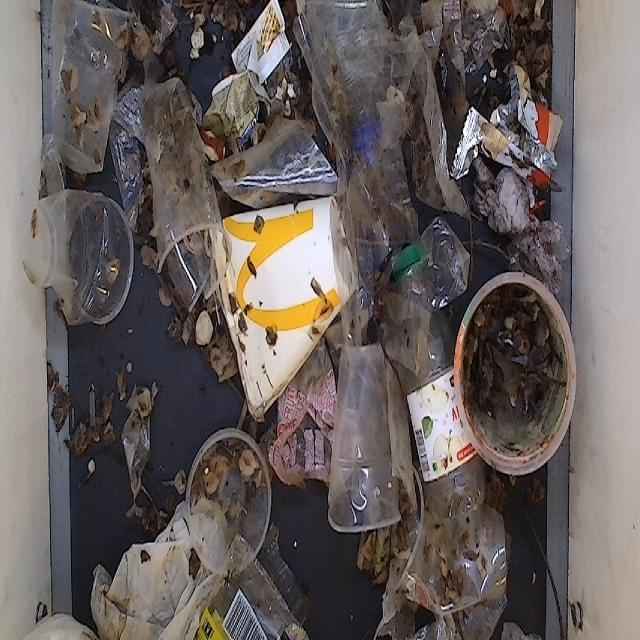food_packaging: (204, 210, 360, 404)
food_wrapping: (78, 495, 240, 640), (451, 63, 571, 226), (196, 0, 302, 144), (264, 338, 347, 503), (200, 536, 306, 640)
pet_bottles: (361, 217, 512, 550)
plastic_cups: (360, 447, 535, 640), (125, 92, 234, 340), (172, 404, 282, 582), (12, 181, 136, 335), (34, 0, 128, 188), (331, 333, 411, 553)
plastic_films: (273, 0, 468, 300), (120, 377, 160, 498)
